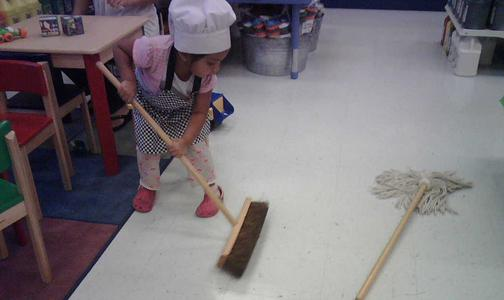person: (113, 2, 232, 218)
